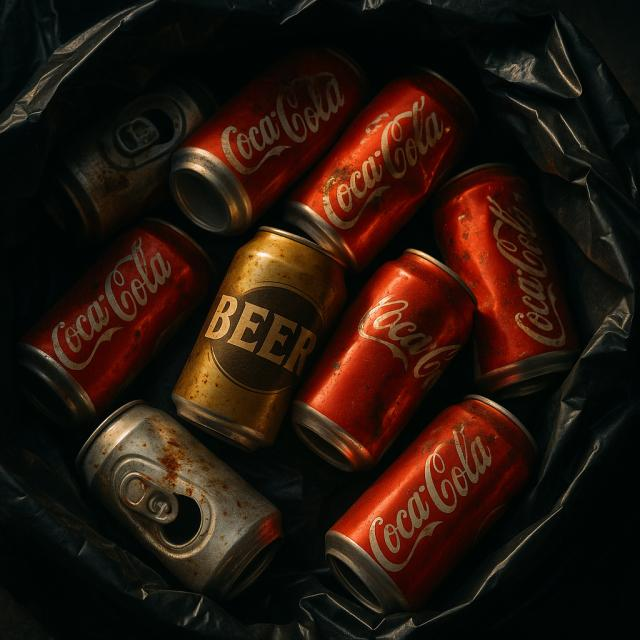aluminum: (323, 400, 550, 601), (168, 227, 338, 440), (436, 168, 577, 392)
